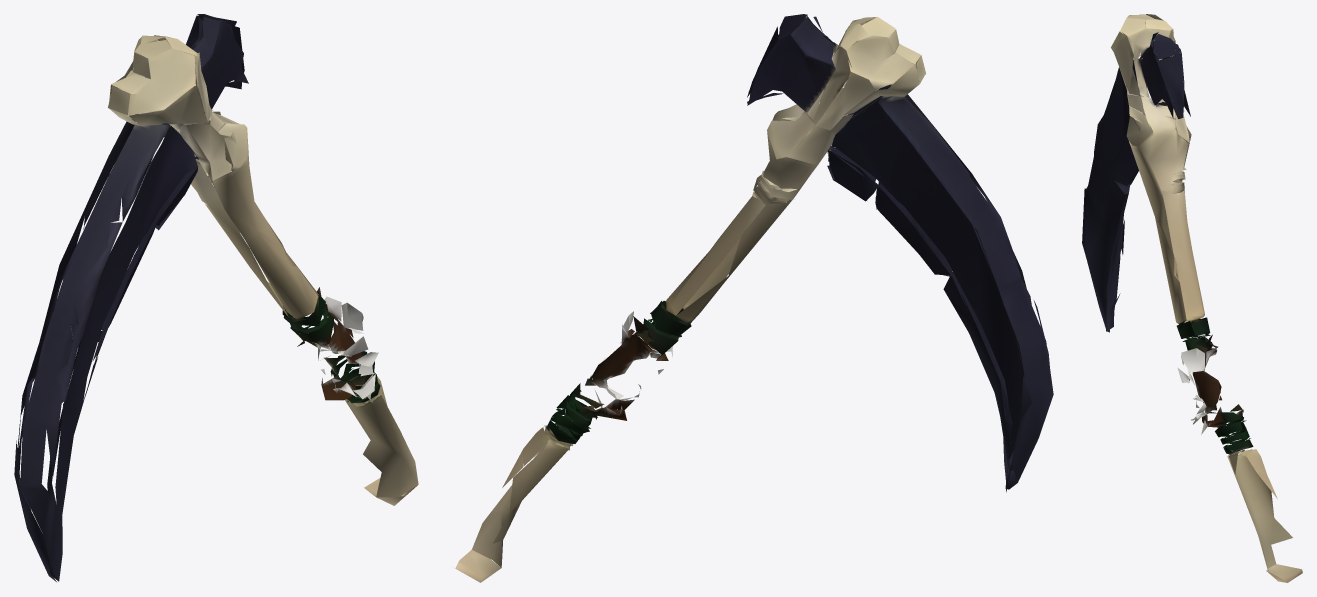
The model's file is bone_scythe.glb.
3 views of the same model, side by side, from view 1: azimuth 30°, elevation 25°; view 2: azimuth 150°, elevation 25°; view 3: azimuth 270°, elevation 25° (orthographic). The views are drawn at different scales.
Visible parts, largest first — view 1: BoneLord.001; view 2: BoneLord.001; view 3: BoneLord.001.
Boxes of the visible parts, x1,y1,x2,y2 form: BoneLord.001: (14, 14, 418, 581); BoneLord.001: (455, 14, 1053, 582); BoneLord.001: (1082, 14, 1302, 582).
Bounding box in the file's own units: 0.8642 × 0.9794 × 0.4346.
1 material, 1 textured.
